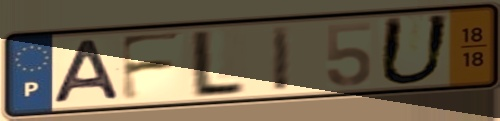5: (323, 19, 374, 89)
A: (47, 37, 125, 106)
F: (117, 30, 186, 104)
I: (268, 22, 295, 95)
L: (186, 27, 250, 101)
U: (375, 12, 455, 88)
